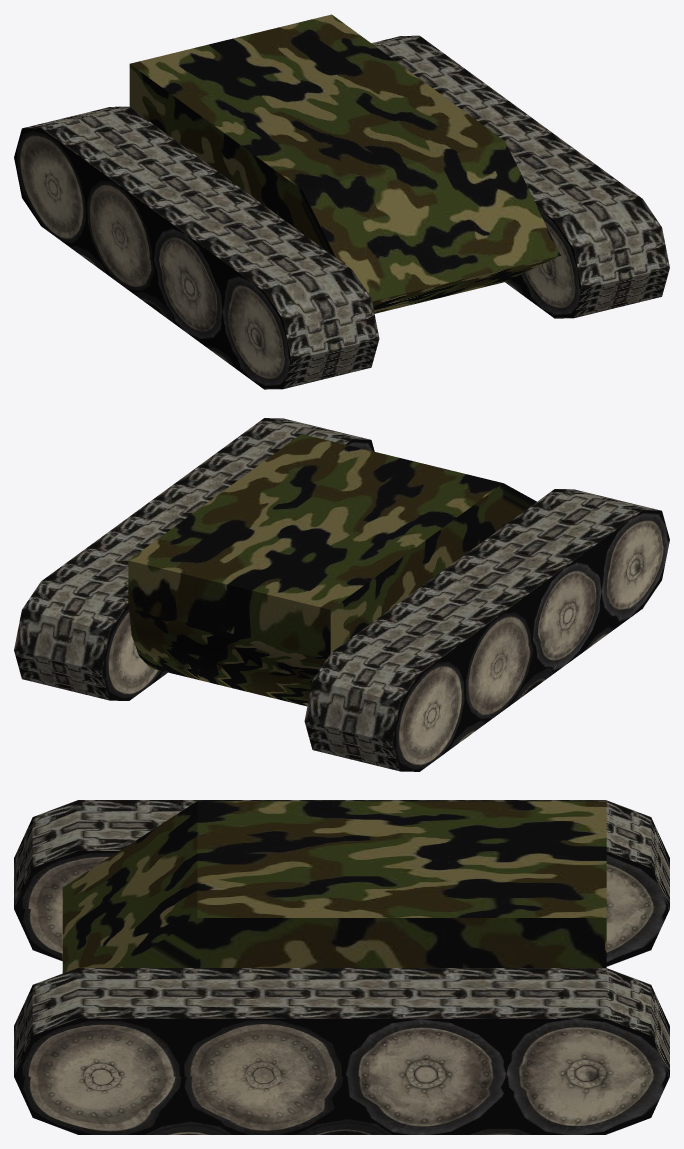
The model's file is body.fbx.
3 renders of one model, top to bottom at view 1: azimuth 30°, elevation 25°; view 2: azimuth 150°, elevation 25°; view 3: azimuth 270°, elevation 25°, orthographic. The views are drawn at different scales.
Visible parts, largest first — view 1: pCube1, pCube3, pCube2; view 2: pCube1, pCube3, pCube2; view 3: pCube2, pCube1, pCube3.
Boxes of the visible parts, x1,y1,x2,y2 form: pCube1: (129,14,560,313); pCube3: (14,106,379,389); pCube2: (371,35,669,318); pCube1: (128,434,536,706); pCube3: (304,489,669,771); pCube2: (14,418,374,700); pCube2: (14,968,669,1134); pCube1: (62,801,606,973); pCube3: (14,800,669,966).
Size of the model in its own units: 12.46 by 4.43 by 15.79.
Materials: 3 (3 with a texture image).
